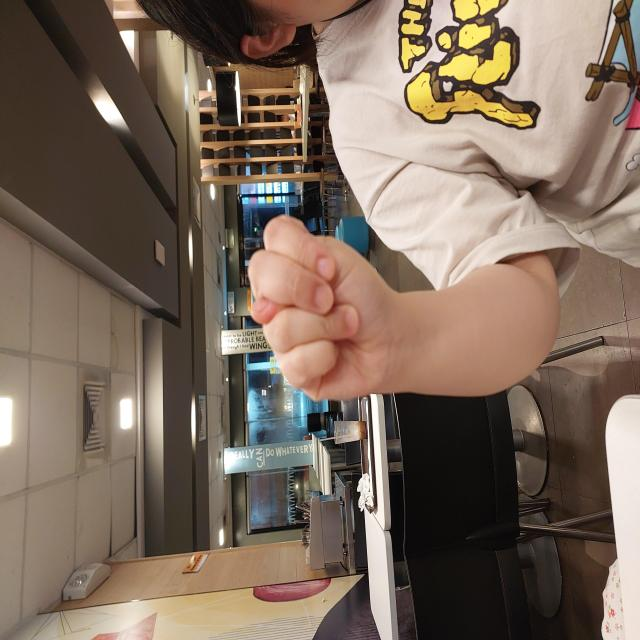N: (237, 247, 427, 400)
